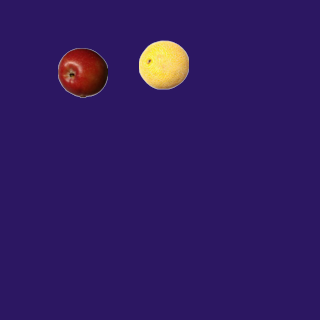Apple Braeburn: (57, 47, 107, 97)
Cantaloupe 1: (138, 39, 188, 89)
